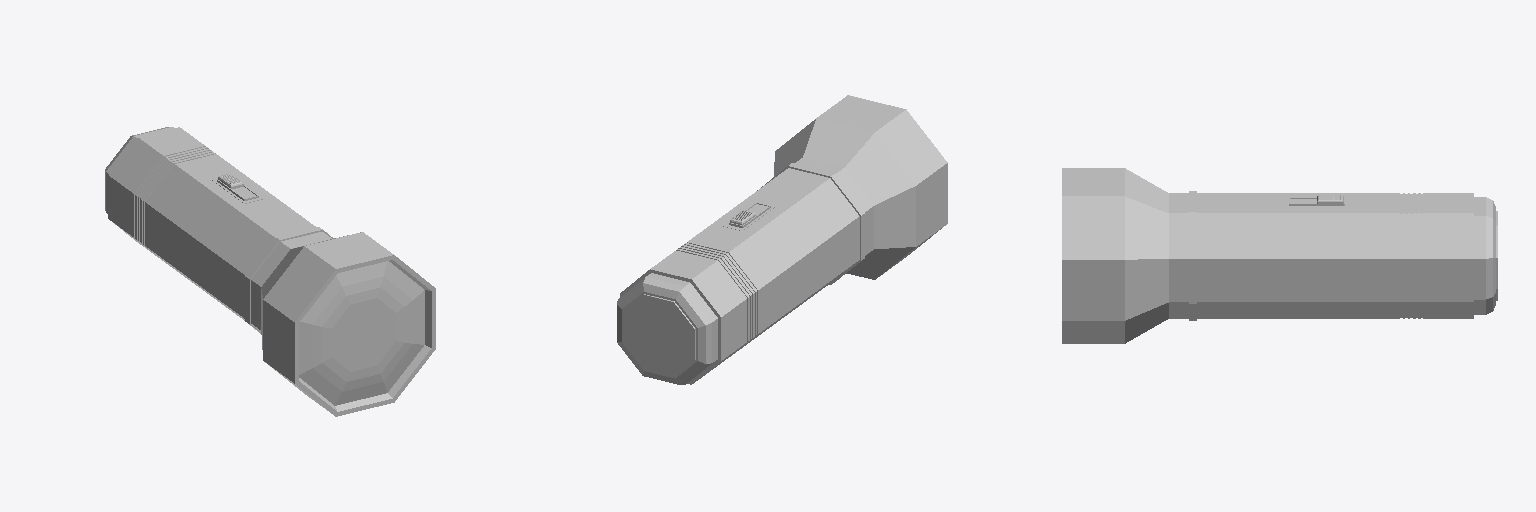
The model's file is flashlight.obj.
3 renders of one model, left to right at view 1: azimuth 30°, elevation 25°; view 2: azimuth 150°, elevation 25°; view 3: azimuth 270°, elevation 25°, orthographic.
Visible parts, largest first — view 1: Flashlight; view 2: Flashlight; view 3: Flashlight.
Part boxes in pixels (x1,y1,x2,y2): Flashlight: (105,127,435,416); Flashlight: (617,95,947,384); Flashlight: (1062,168,1497,343).
Bounding box in the file's own units: 2.59 × 2.59 × 6.93.